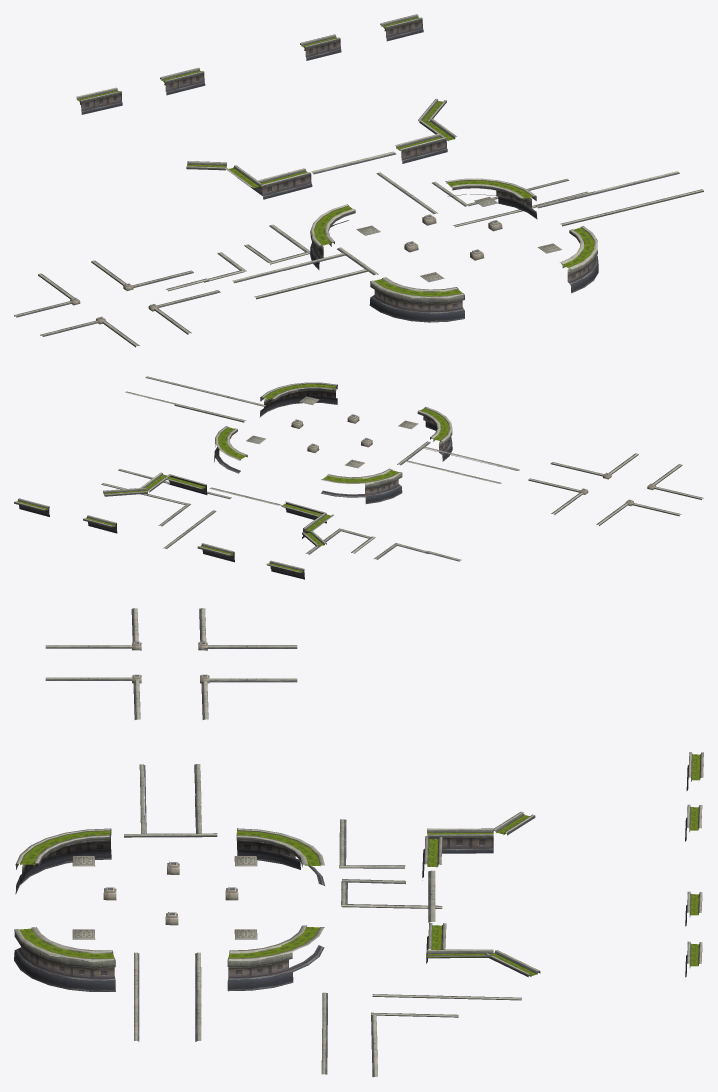
Rendered from S_Build_City128_A.FBX.
3 renders of one model, top to bottom at view 1: azimuth 30°, elevation 25°; view 2: azimuth 150°, elevation 25°; view 3: azimuth 270°, elevation 25°, orthographic. The views are drawn at different scales.
Parts seen in each view (by area): view 1: S_Build_City128_S2, S_Build_City128_S3, S_Build_City128, S_Build_City128_S1, S_Build_City133_S6, S_Build_City133_S1, S_Build_City133_S8, S_Build_City133_S9, S_Build_City133_S11, S_Build_City133_S10; view 2: S_Build_City128_S1, S_Build_City128_S3, S_Build_City128_S2, S_Build_City128, S_Build_City133_S1, S_Build_City133_S6, S_Build_City133_S8, S_Build_City133_S9, S_Build_City133_S11, S_Build_City133_S10; view 3: S_Build_City128_S3, S_Build_City128, S_Build_City128_S2, S_Build_City128_S1, S_Build_City133_S5.
Boxes of the visible parts, x1=… form: S_Build_City128_S2: x1=369, y1=277, x2=464, y2=322; S_Build_City128_S3: x1=560, y1=226, x2=598, y2=293; S_Build_City128: x1=445, y1=178, x2=537, y2=219; S_Build_City128_S1: x1=310, y1=204, x2=355, y2=269; S_Build_City133_S6: x1=258, y1=168, x2=312, y2=199; S_Build_City133_S1: x1=395, y1=133, x2=447, y2=163; S_Build_City133_S8: x1=76, y1=87, x2=122, y2=114; S_Build_City133_S9: x1=160, y1=67, x2=205, y2=95; S_Build_City133_S11: x1=380, y1=14, x2=423, y2=41; S_Build_City133_S10: x1=300, y1=34, x2=341, y2=60; S_Build_City128_S1: x1=321, y1=468, x2=402, y2=503; S_Build_City128_S3: x1=259, y1=382, x2=337, y2=417; S_Build_City128_S2: x1=417, y1=407, x2=452, y2=461; S_Build_City128: x1=214, y1=426, x2=247, y2=473; S_Build_City133_S1: x1=164, y1=474, x2=207, y2=494; S_Build_City133_S6: x1=280, y1=501, x2=326, y2=523; S_Build_City133_S8: x1=266, y1=560, x2=304, y2=579; S_Build_City133_S9: x1=197, y1=543, x2=234, y2=562; S_Build_City133_S11: x1=14, y1=498, x2=49, y2=516; S_Build_City133_S10: x1=83, y1=515, x2=117, y2=533; S_Build_City128_S3: x1=14, y1=927, x2=115, y2=991; S_Build_City128: x1=227, y1=925, x2=324, y2=991; S_Build_City128_S2: x1=15, y1=828, x2=111, y2=894; S_Build_City128_S1: x1=236, y1=828, x2=324, y2=885; S_Build_City133_S5: x1=427, y1=828, x2=493, y2=853.
Bounding box in the file's own units: 16018 × 11339 × 1876.
1 material, 1 textured.
